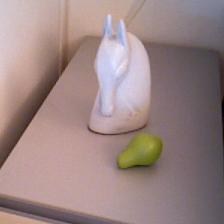YCB-Objects: (115, 130, 166, 174)
